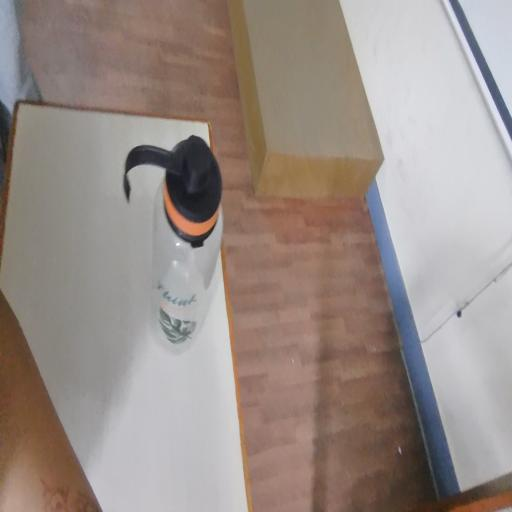Bottle: (147, 132, 232, 393)
